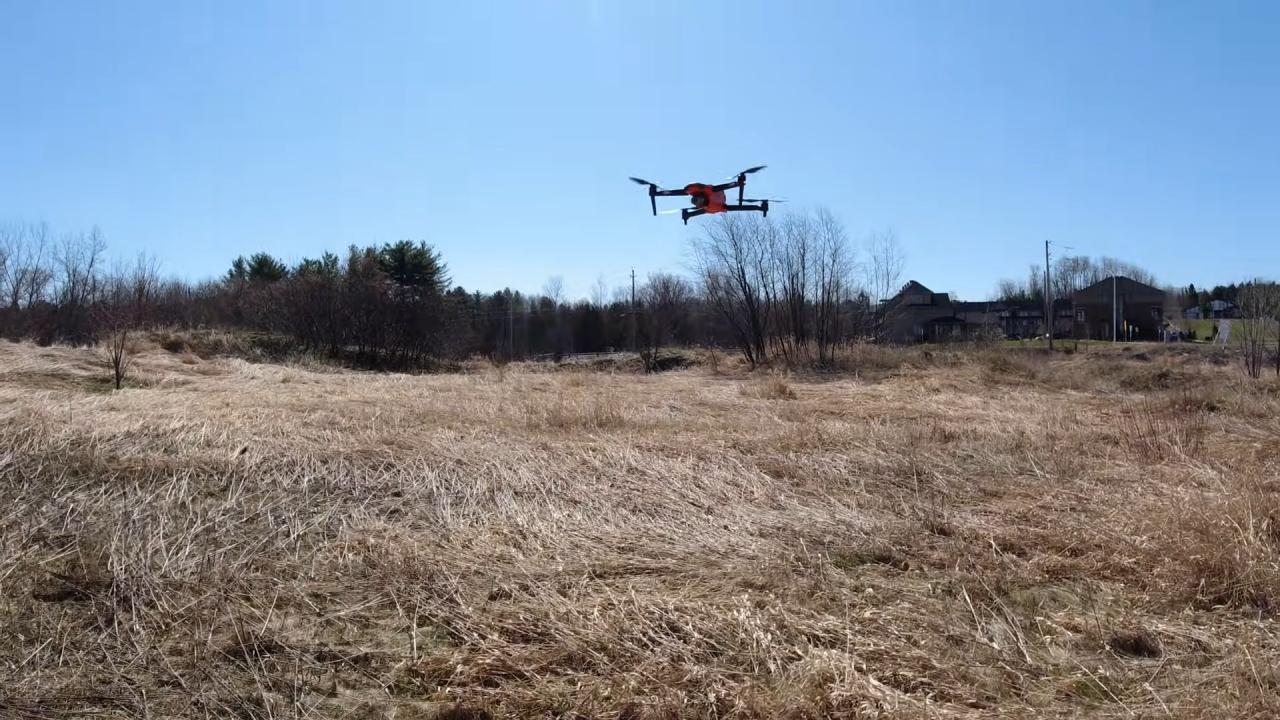Drone: (618, 152, 796, 235)
